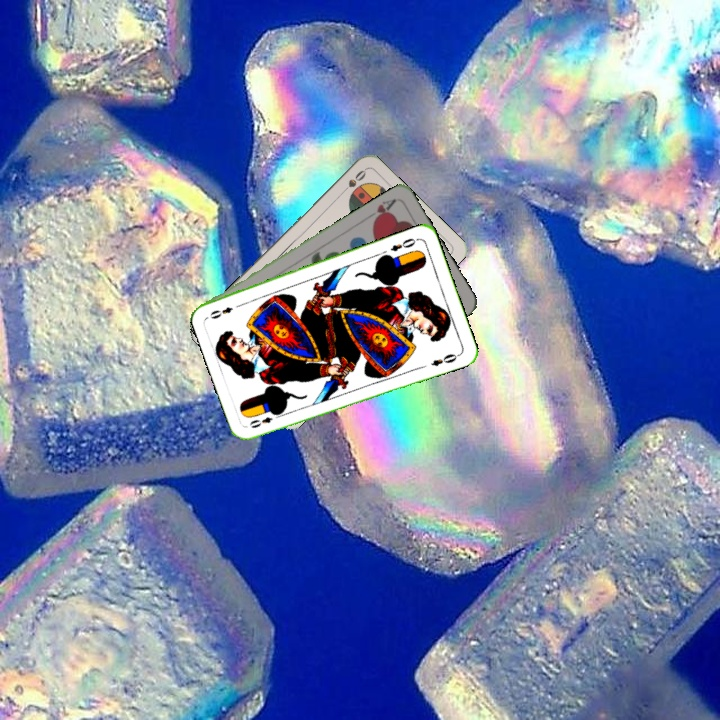EO: (246, 409, 284, 431), (386, 234, 421, 254)
HA: (362, 195, 399, 225)
SO: (336, 166, 369, 198)
